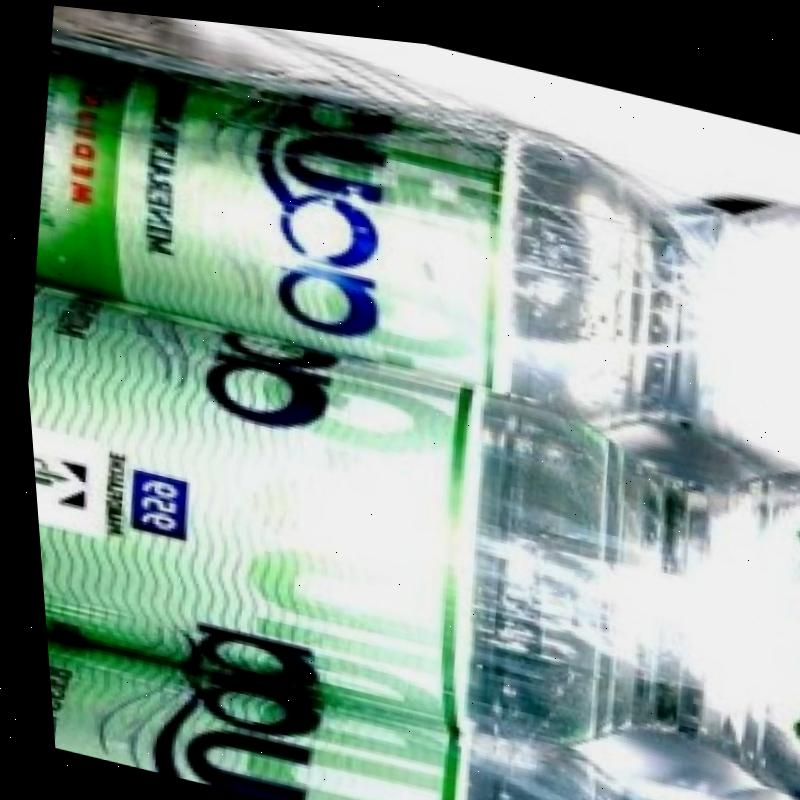botella: (16, 278, 800, 795), (12, 15, 800, 467), (36, 622, 800, 800)
